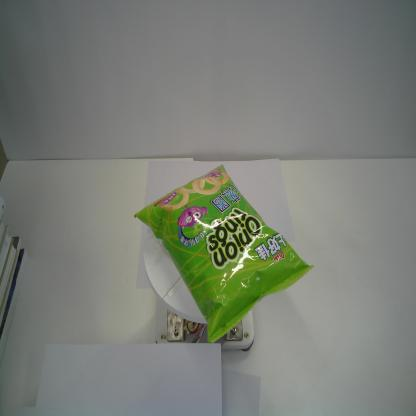Puffed Food: (134, 163, 316, 344)
